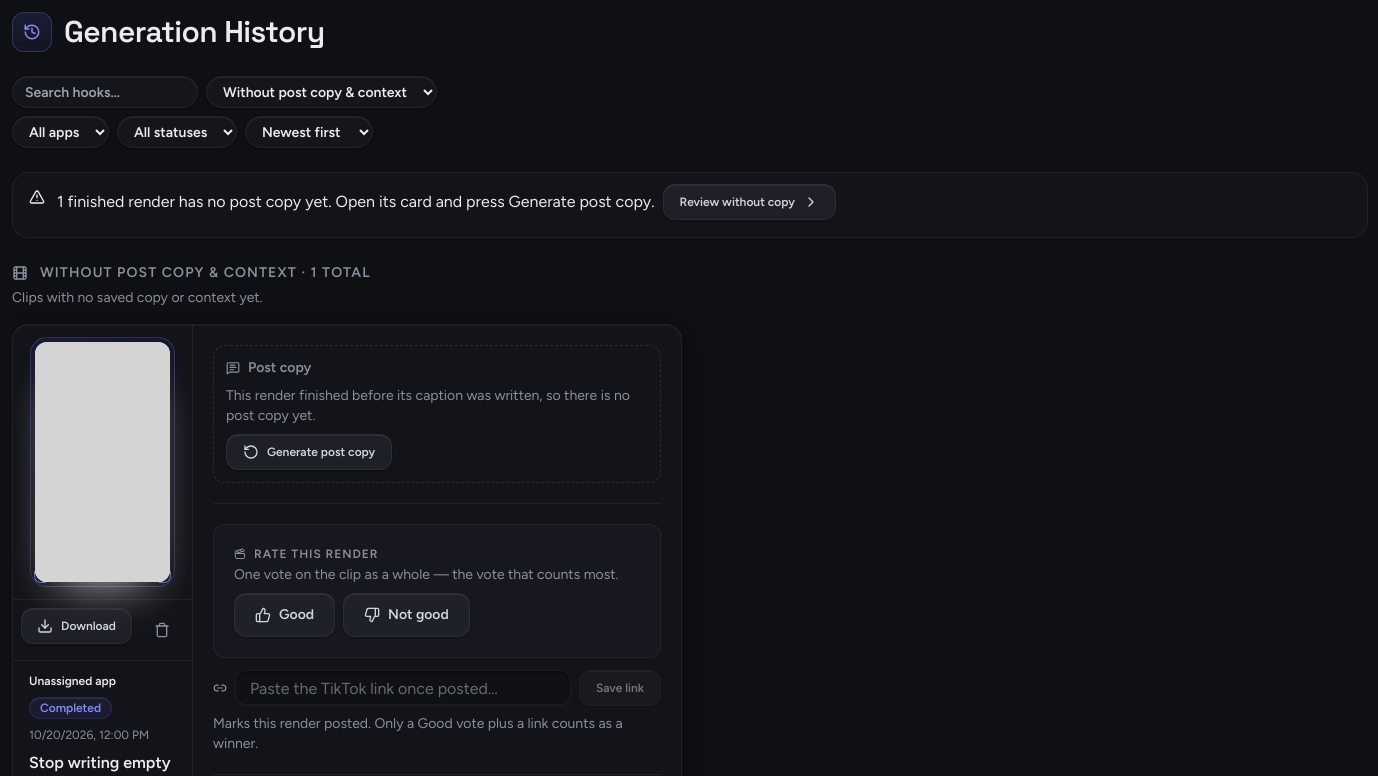
history kit-less rescue flow › a connection drop during Generate fails loud with a retry
Step 1. Click the button with test id "history-generate-post-copy-button-kitless-1" → {"x": 309, "y": 452}, box [226,434,392,470]
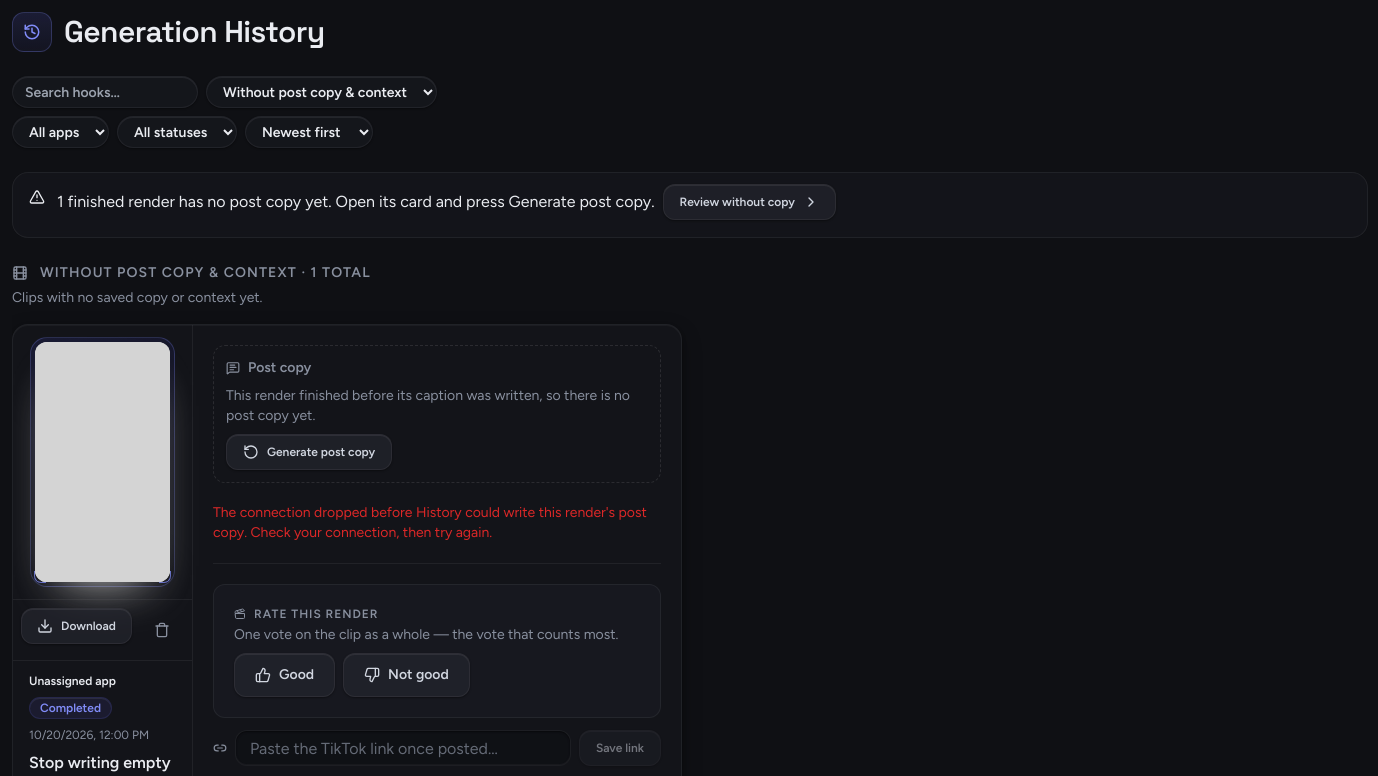
Expected: the message with test id "history-attention" is shown, [12,172,1368,238]
Expected: the text "connection dropped" is shown, [213,504,647,541]
Expected: the text "write this render's post copy" is shown, [213,504,647,541]
